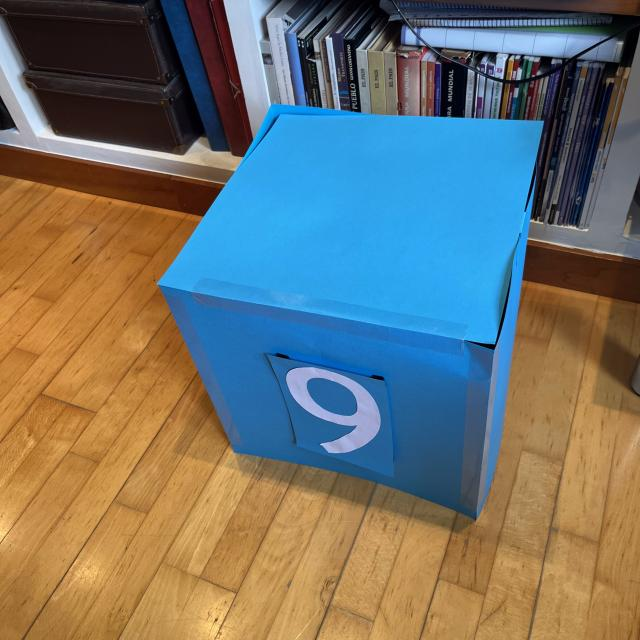box: (154, 100, 546, 522)
